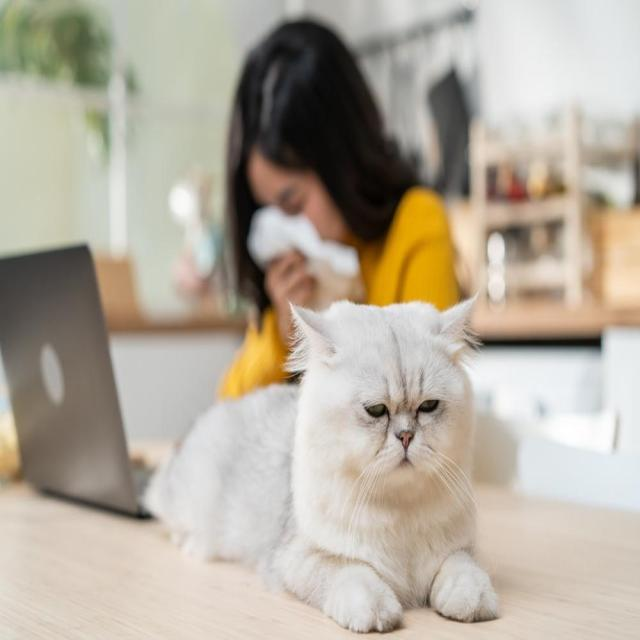Cat: (280, 288, 492, 522)
